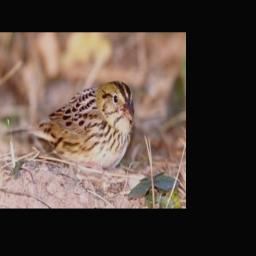Sparrow: (4, 78, 135, 173)
